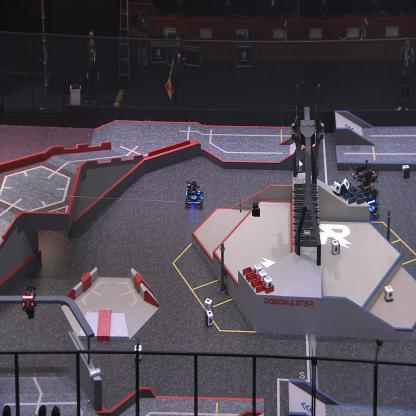car: (351, 166, 380, 218), (184, 179, 204, 209)
